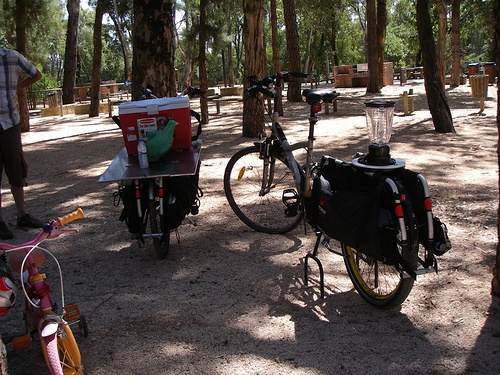non-vehicle: (223, 72, 419, 309), (95, 77, 204, 261), (1, 209, 87, 372)
